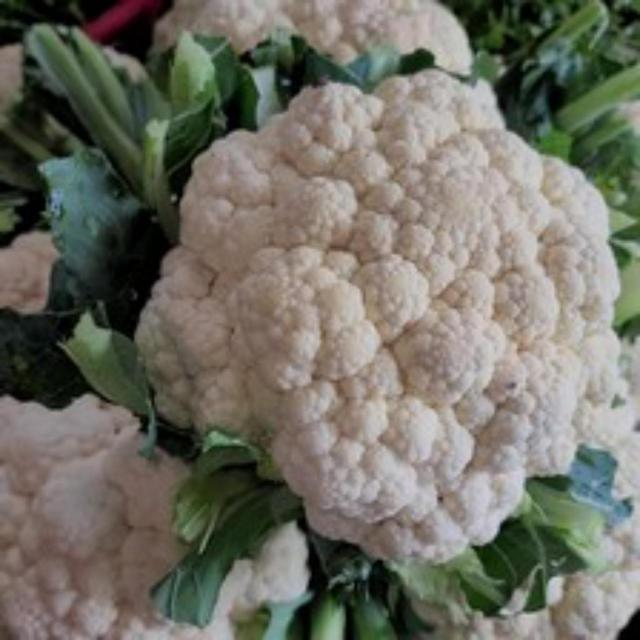cauliflower: (138, 77, 626, 574)
